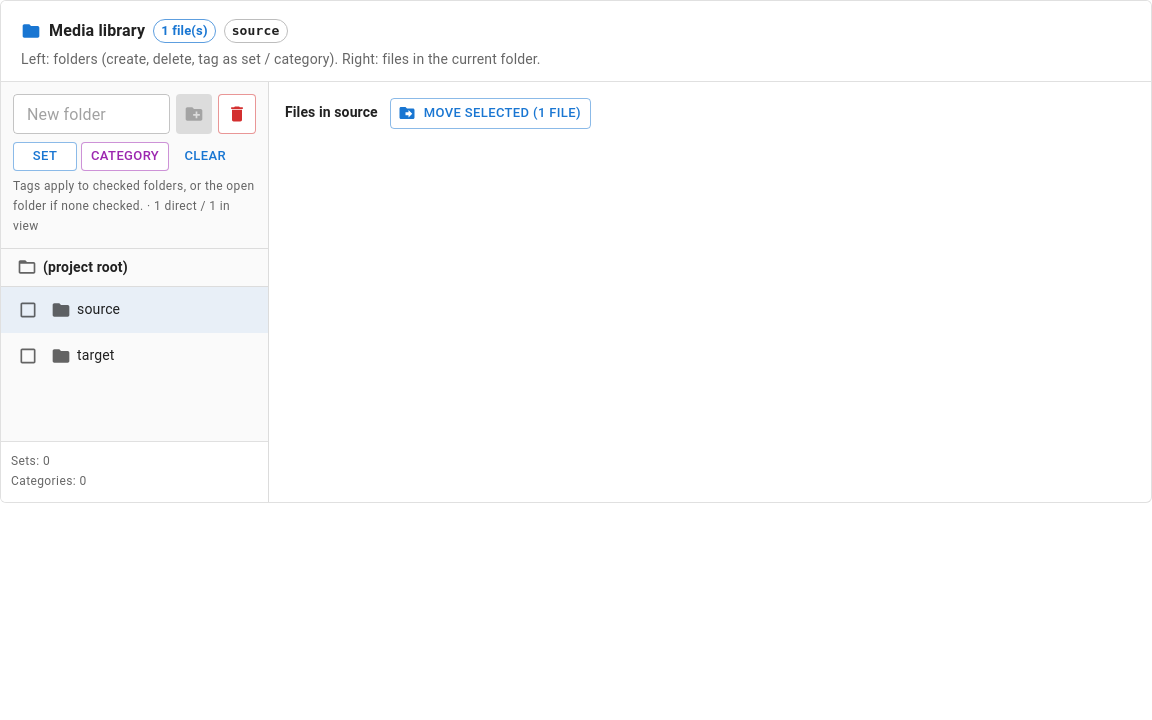
Test: failed moves retain file selection and the destination dialog
The width and height of the screenshot is (1152, 720).
Click the button "Move selected (1 file)" at (490, 113), box [390,98,591,129]
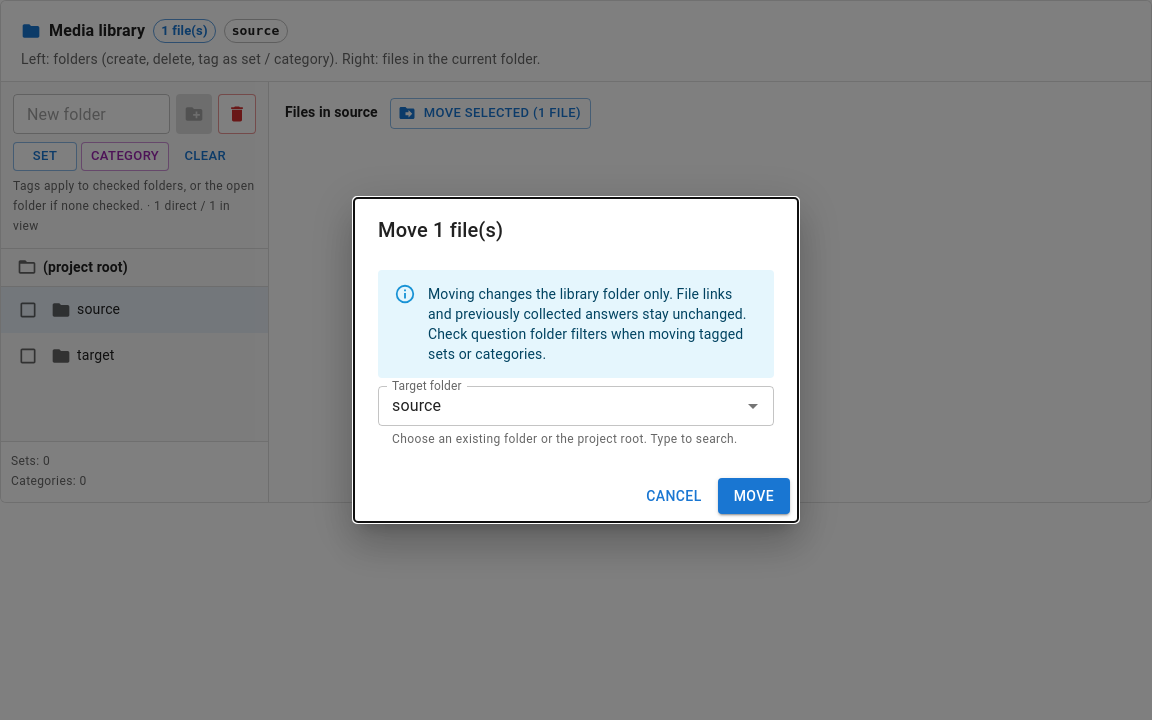
Press the mouse on the dropdown labelled "Target folder" at (546, 406), box [384,392,709,420]
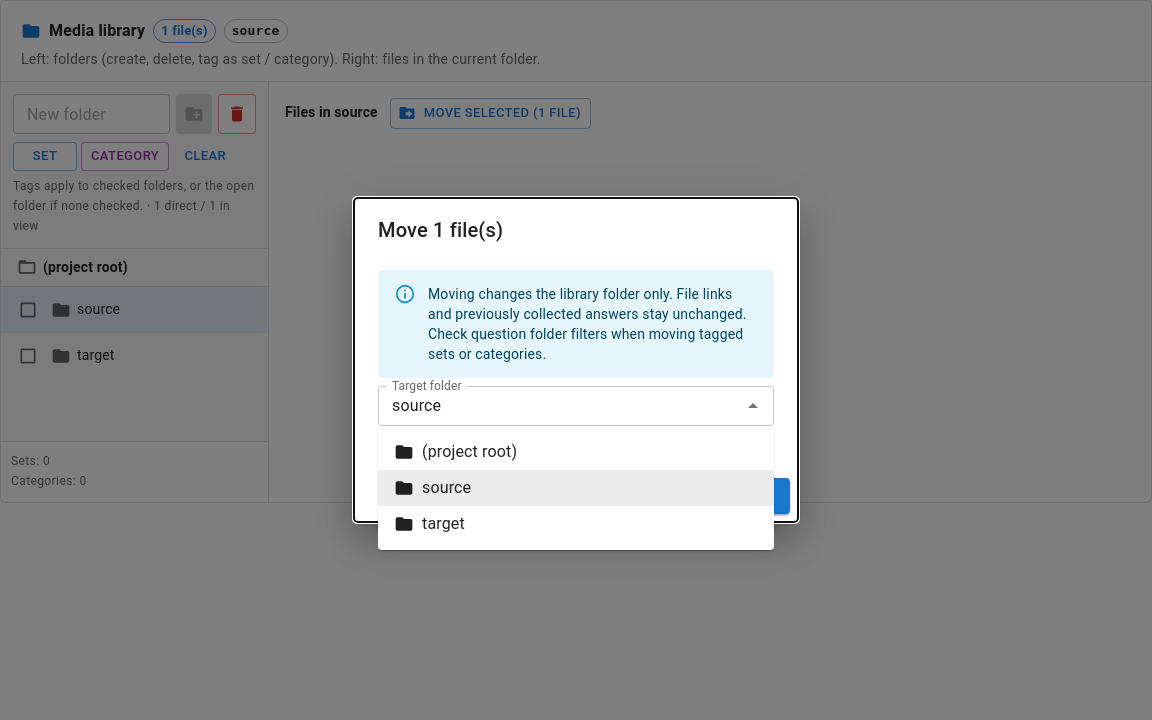
Click the option "target" at (429, 524), box [394,514,465,534]
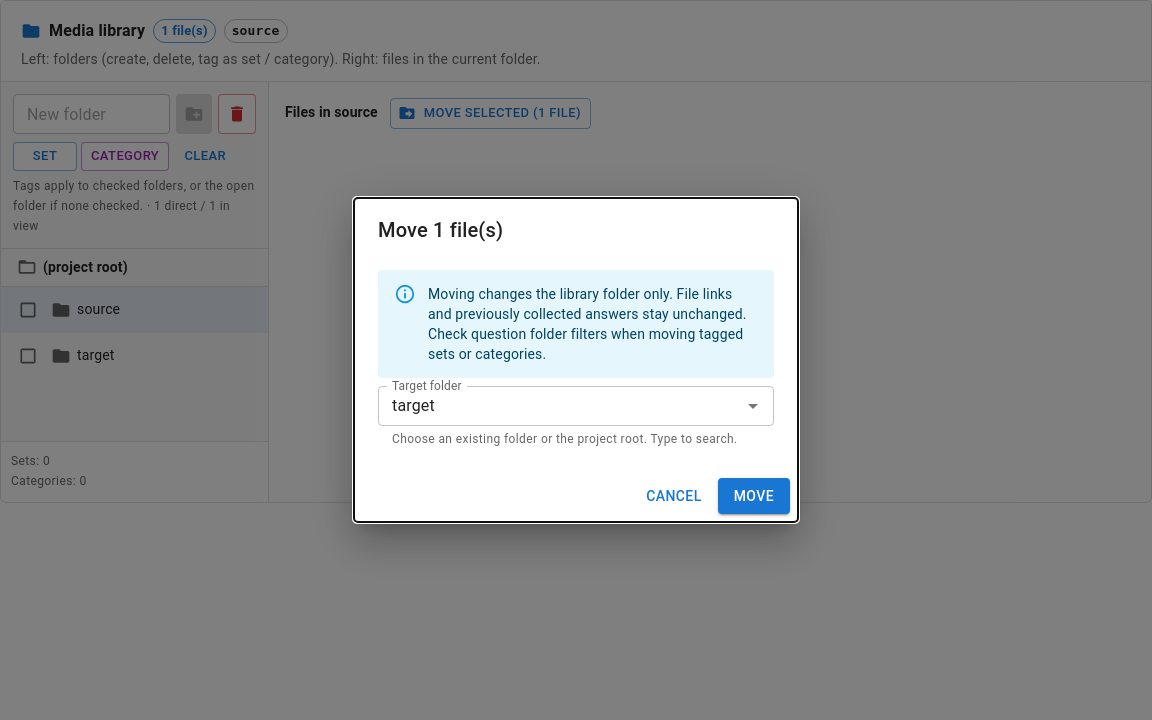
Click the button "Move" at (754, 496), box [718,478,790,514]
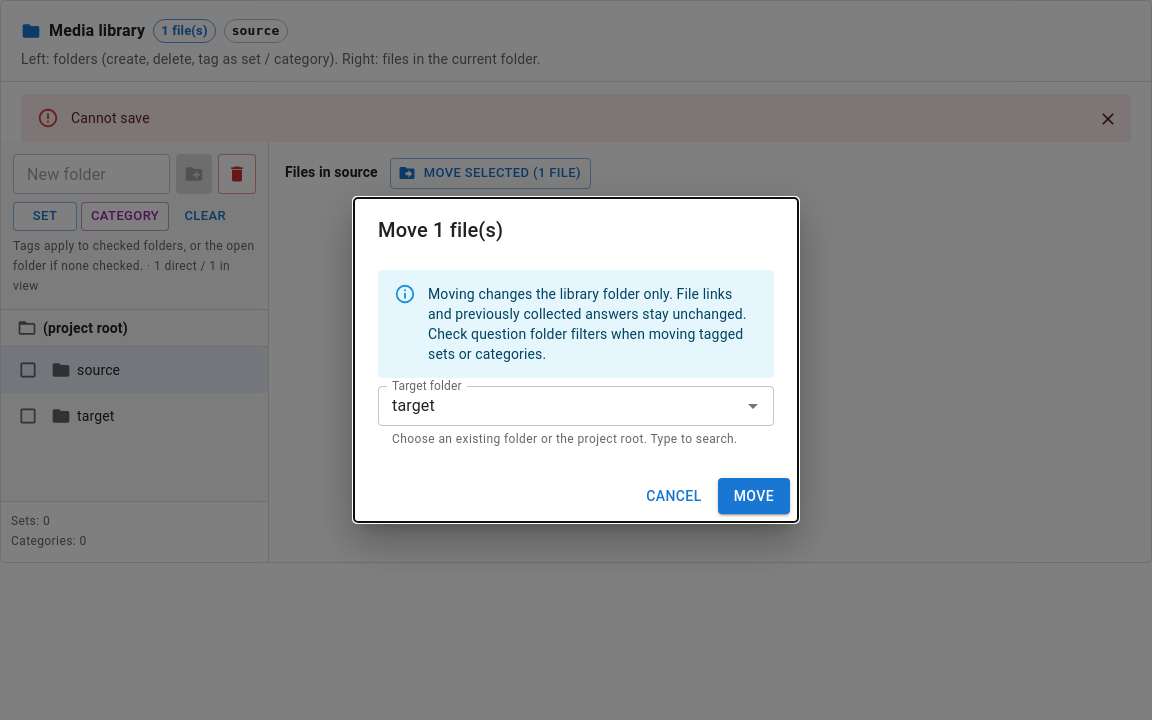
Check: the dropdown labelled "Target folder" holds "target", box [384,392,709,420]
Check: the text "Cannot save" is shown, box [71,110,150,126]
